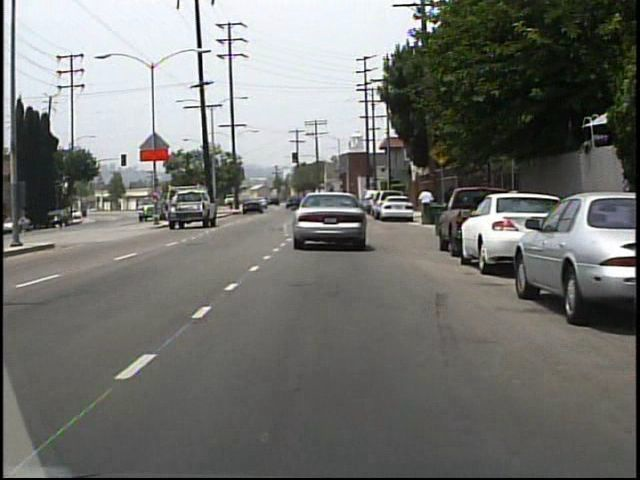person: (417, 184, 435, 205)
